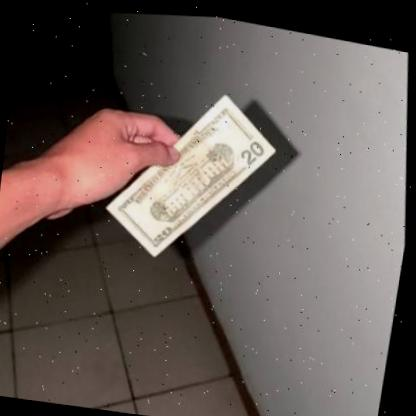twenty-back: (80, 60, 303, 284)
